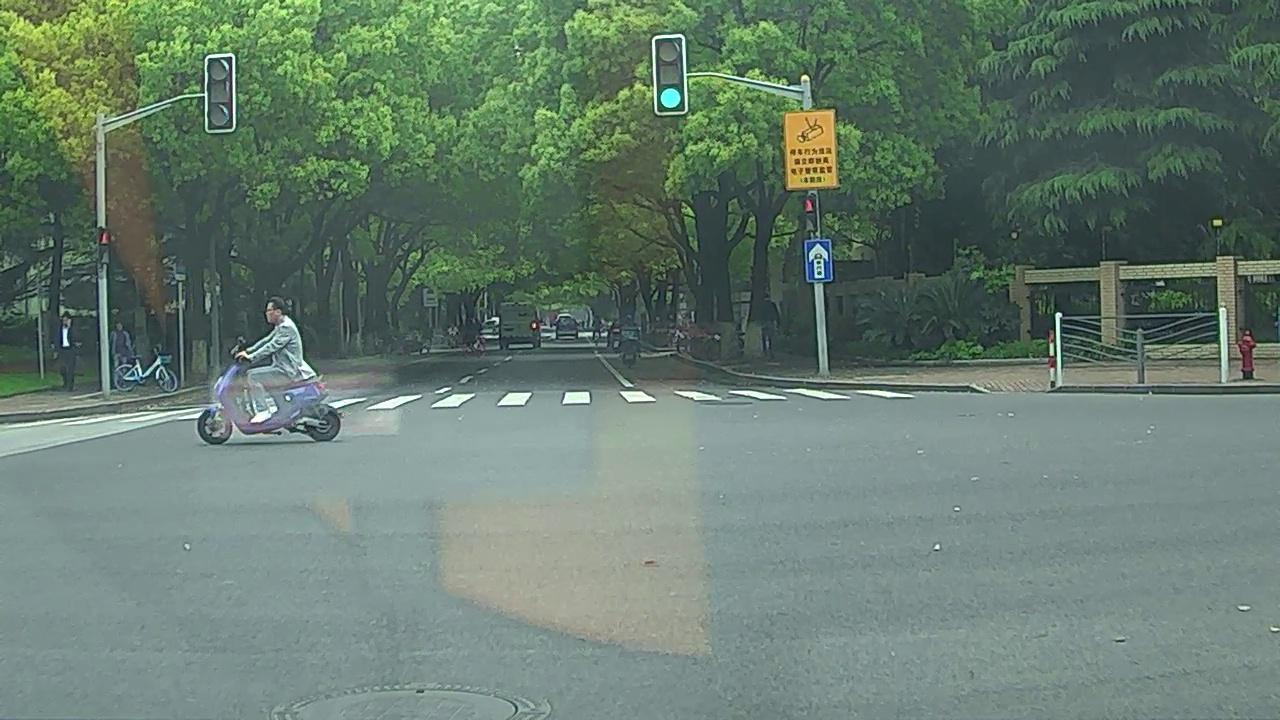traffic_light: (655, 40, 690, 113), (205, 57, 236, 132)
